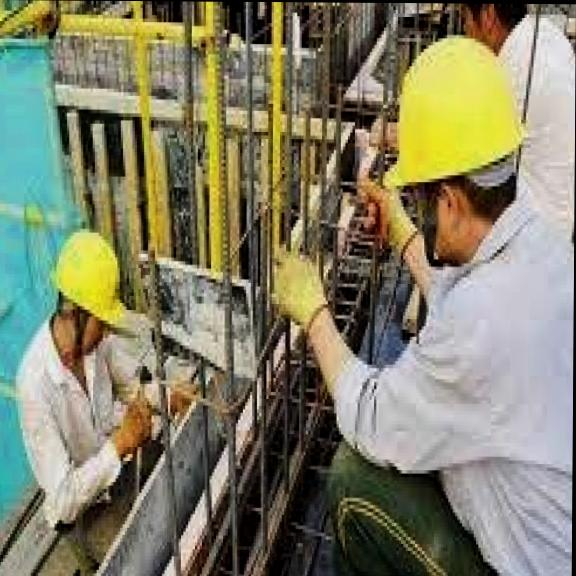no_safety_vest: (377, 192, 575, 576), (22, 337, 127, 524)
